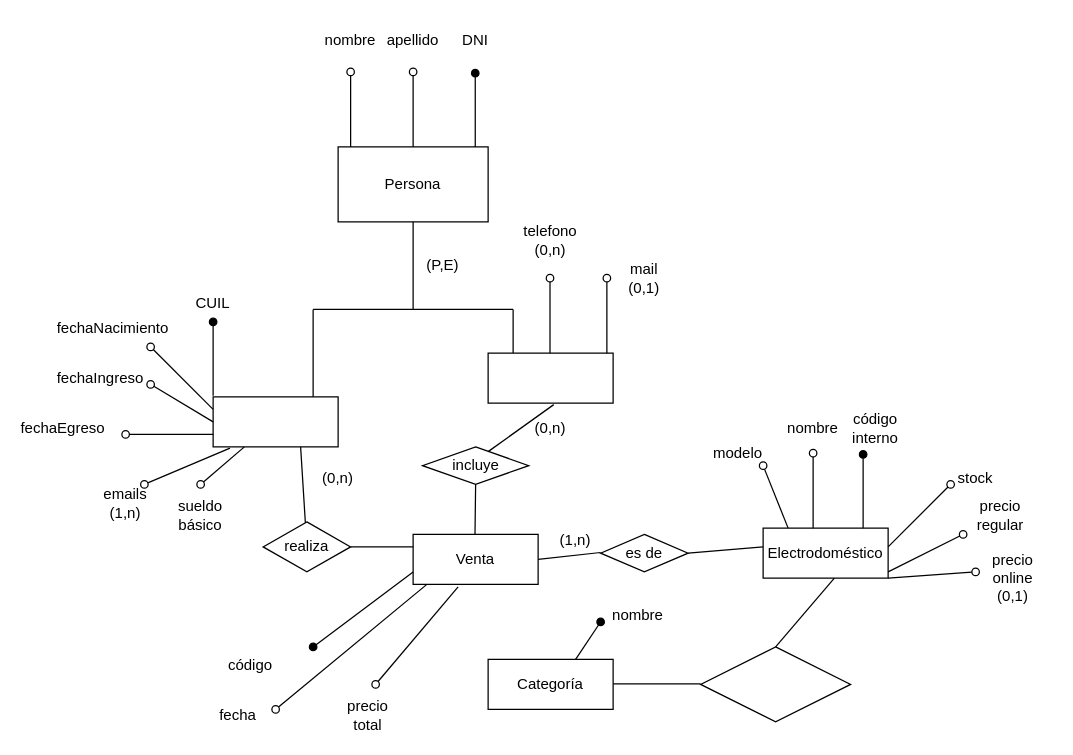
Image size: 1073x755. Some labels were removed from this diagram. The centre of each missing label's shape, as x and y in pixels:
"Cliente" belongs at (x=550, y=377).
"Empleado" belongs at (x=275, y=421).
"pertenece a" belongs at (x=775, y=684).
